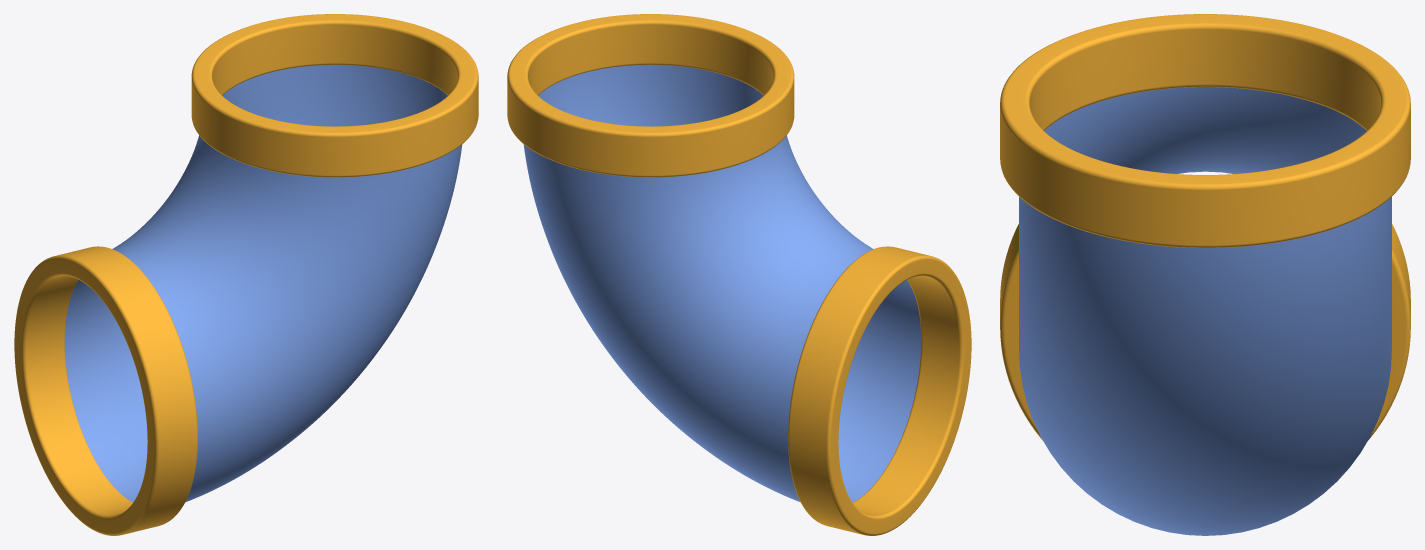
File: ExpulsionTubeElbow.glb
The picture shows the model from 3 angles, left to right: view 1: azimuth 30°, elevation 25°; view 2: azimuth 150°, elevation 25°; view 3: azimuth 270°, elevation 25°; orthographic projection. The views are drawn at different scales.
Parts seen in each view (by area): view 1: HollowTransparentElbow, HorizontalGoldCollar, VerticalGoldCollar; view 2: HollowTransparentElbow, HorizontalGoldCollar, VerticalGoldCollar; view 3: HollowTransparentElbow, VerticalGoldCollar, HorizontalGoldCollar.
Part boxes in pixels (bbox=[...]): HollowTransparentElbow: bbox=[64, 64, 462, 502]; HorizontalGoldCollar: bbox=[14, 246, 197, 535]; VerticalGoldCollar: bbox=[191, 14, 478, 177]; HollowTransparentElbow: bbox=[523, 64, 921, 502]; HorizontalGoldCollar: bbox=[788, 246, 971, 535]; VerticalGoldCollar: bbox=[507, 14, 794, 177]; HollowTransparentElbow: bbox=[1019, 87, 1391, 535]; VerticalGoldCollar: bbox=[1000, 14, 1410, 247]; HorizontalGoldCollar: bbox=[1000, 224, 1410, 440].
Size of the model in its own units: 1.15 by 1.14 by 0.76.
Materials: 2 (2 with a texture image).
